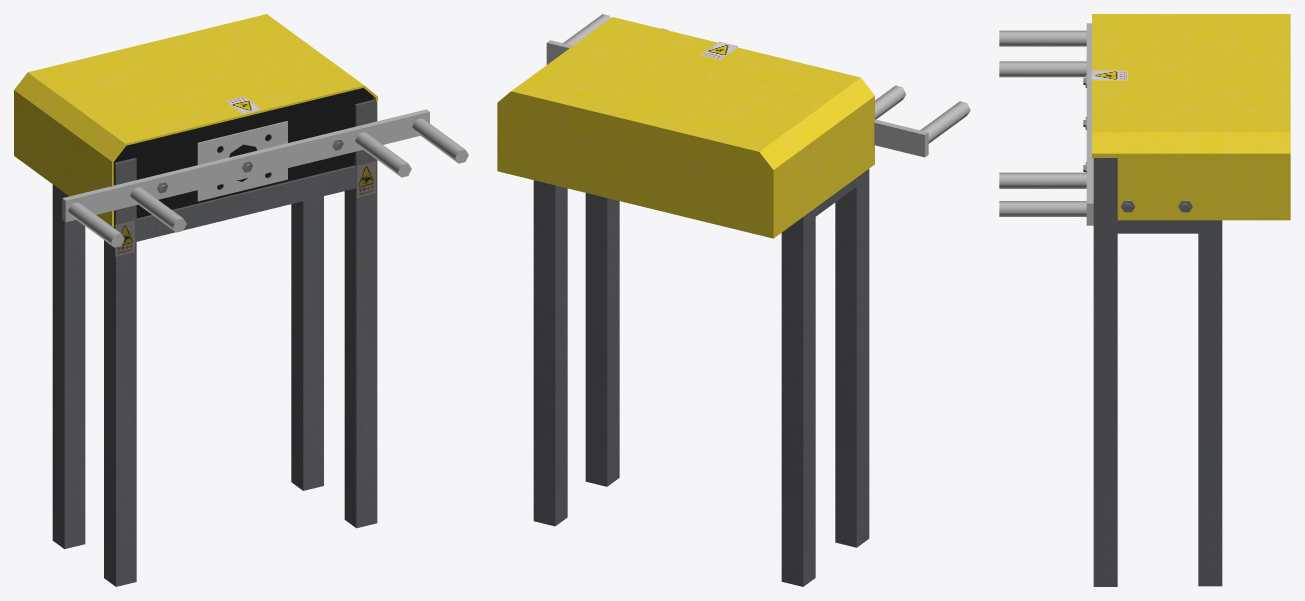
Rendered from Txinggu1.FBX.
3 renders of one model, left to right at view 1: azimuth 30°, elevation 25°; view 2: azimuth 150°, elevation 25°; view 3: azimuth 270°, elevation 25°, orthographic. The views are drawn at different scales.
Parts seen in each view (by area): view 1: YF_Model_Txinggu1; view 2: YF_Model_Txinggu1; view 3: YF_Model_Txinggu1.
Part boxes in pixels (x1,y1,x2,y2): YF_Model_Txinggu1: (14,14,468,586); YF_Model_Txinggu1: (497,14,970,586); YF_Model_Txinggu1: (999,14,1290,586).
Size of the model in its own units: 52.76 by 61.28 by 35.99.
1 material, 1 textured.
